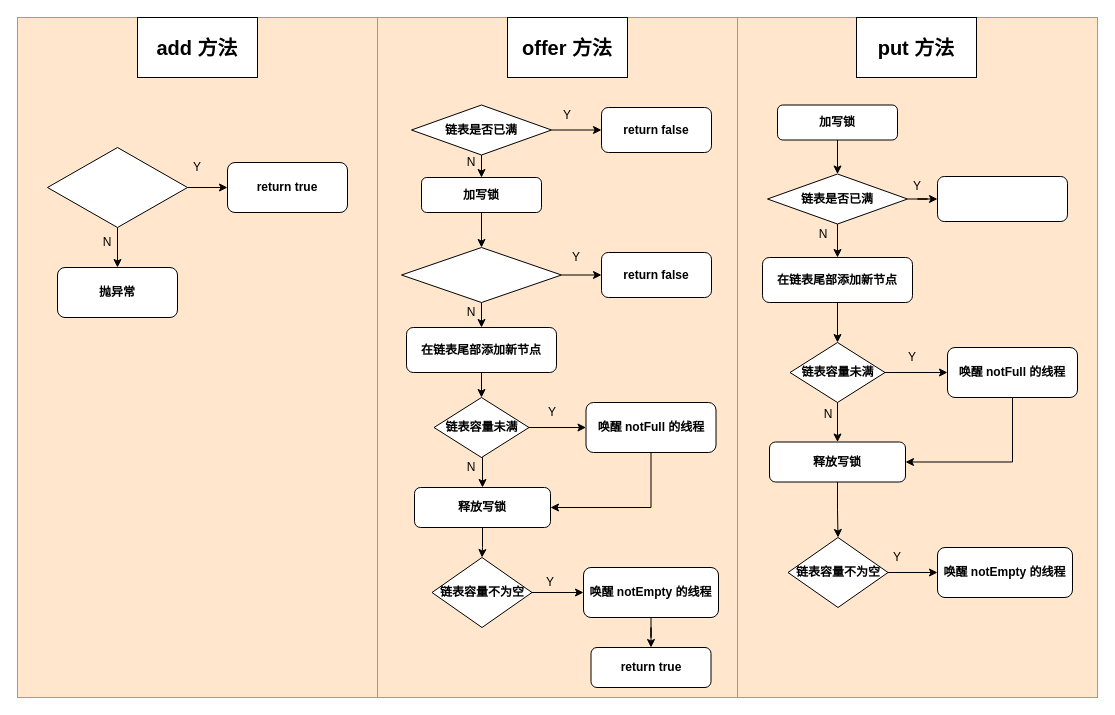
The diagram is 1115 pixels wide and 715 high, and some of its shapes have lost their labels. Here are the shapes that lost their labels. From the top down, the centre of each, then its label:
the point at 117,187: 调用 offer 方法添加节点
the point at 1002,199: 挂起等待，直到被唤醒
the point at 481,274: 再次判断链表是否已满
